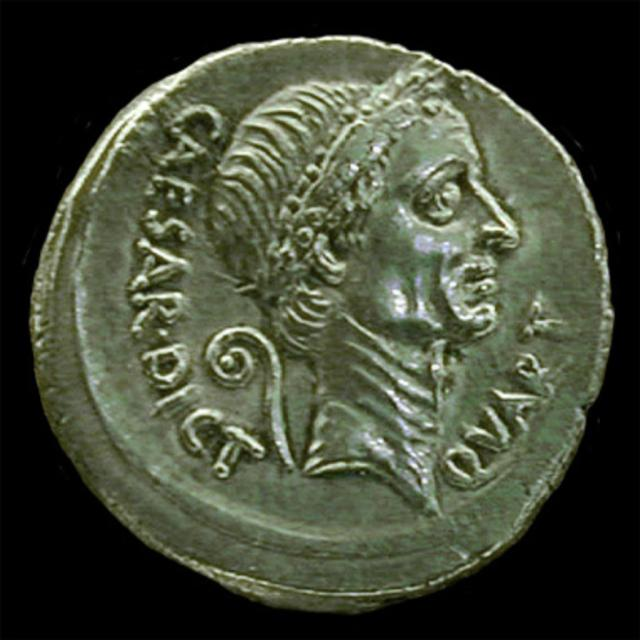Coin: (13, 31, 627, 600)
